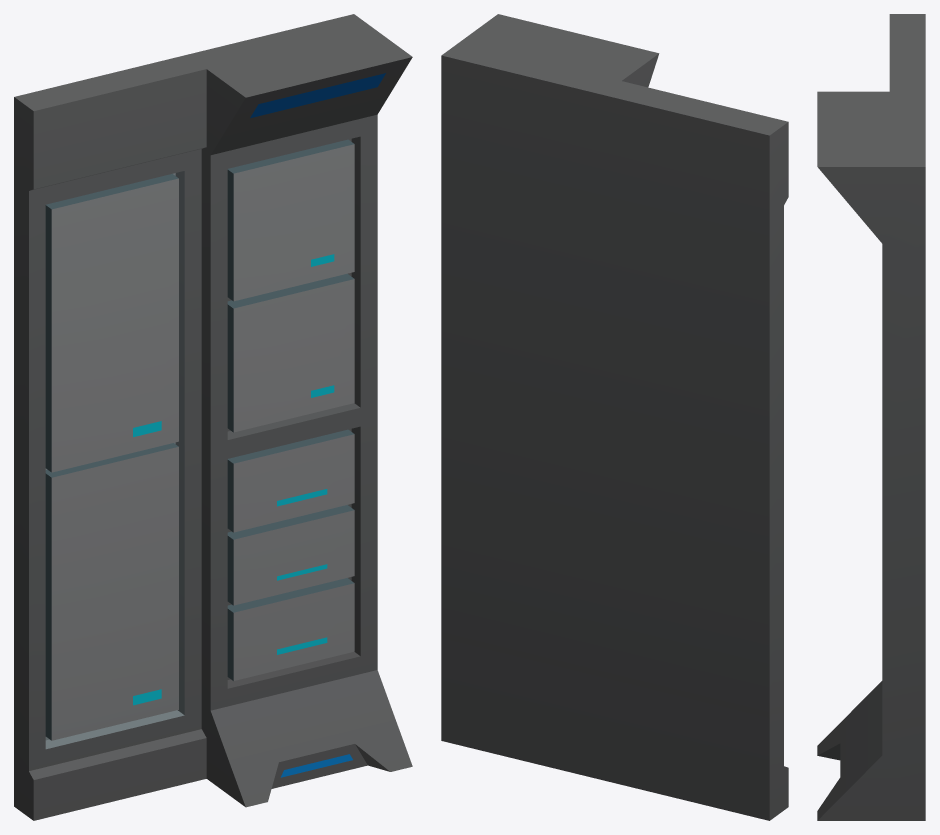
File: Wall_type_B_014.fbx
3 renders of one model, left to right at view 1: azimuth 30°, elevation 25°; view 2: azimuth 150°, elevation 25°; view 3: azimuth 270°, elevation 25°, orthographic. The views are drawn at different scales.
Parts seen in each view (by area): view 1: Wall_type_B_014; view 2: Wall_type_B_014; view 3: Wall_type_B_014.
Boxes of the visible parts, x1,y1,x2,y2 form: Wall_type_B_014: [14, 14, 412, 820]; Wall_type_B_014: [441, 14, 788, 820]; Wall_type_B_014: [817, 14, 925, 820].
Size of the model in its own units: 200 by 60 by 400.
